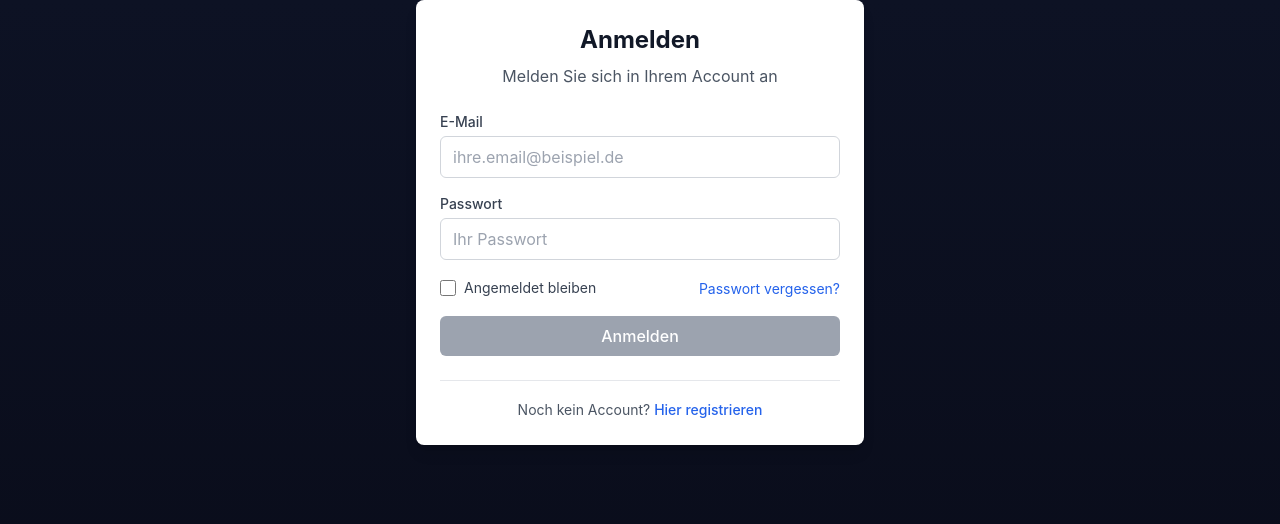
Test: LoginForm › handles login error
Type "test@example.com" into the field labelled "E-Mail" at (640, 157), box [440,136,840,178]
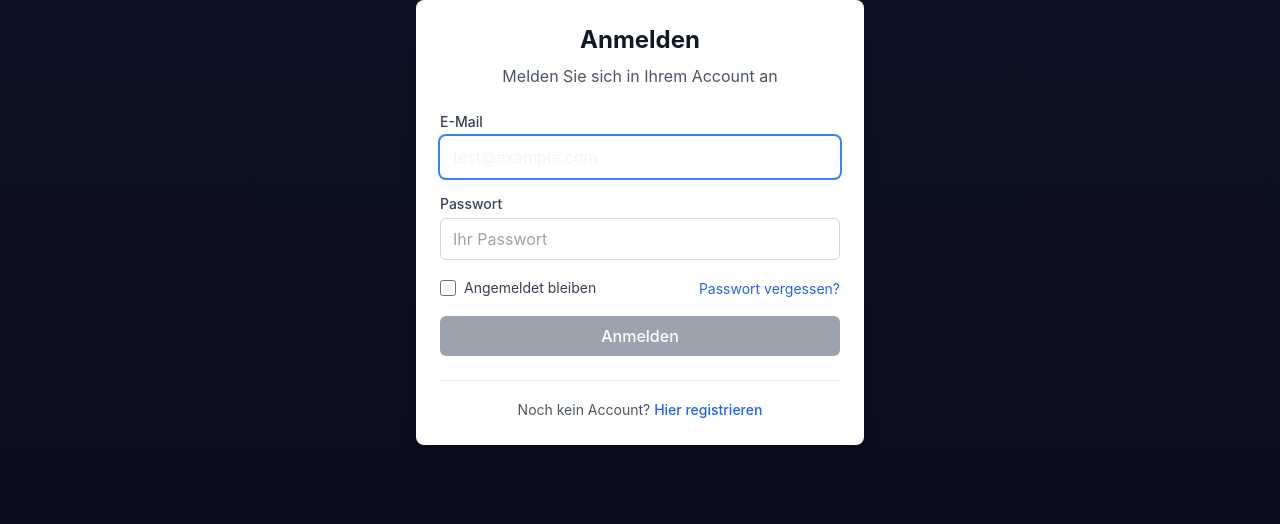
Type "wrongpassword" into the password field labelled "Passwort" at (640, 239), box [440,218,840,260]
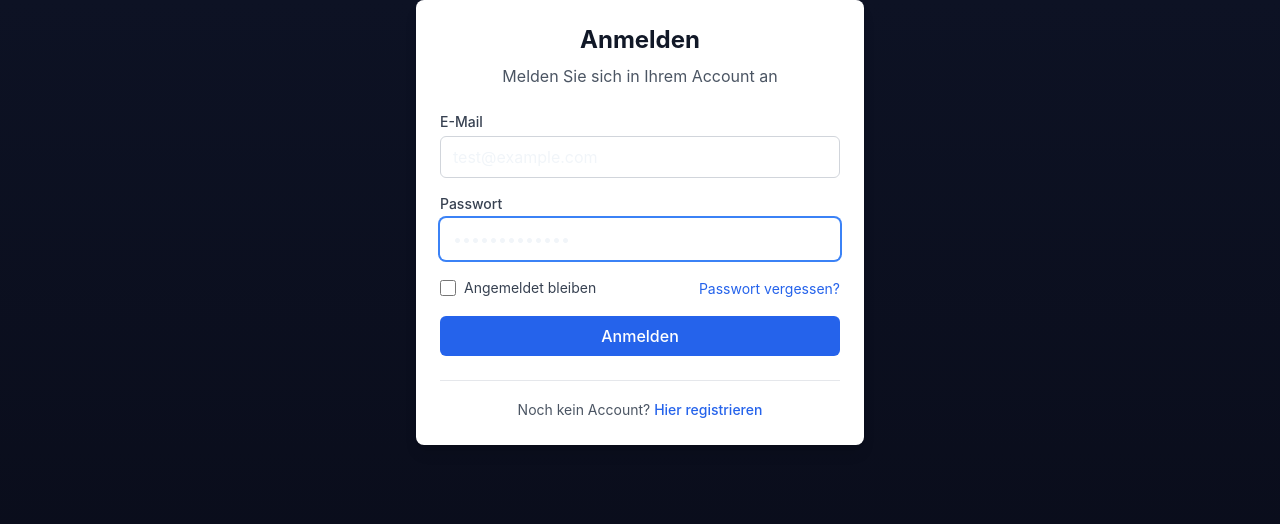
Click the button "Anmelden" at (640, 336), box [440,316,840,356]
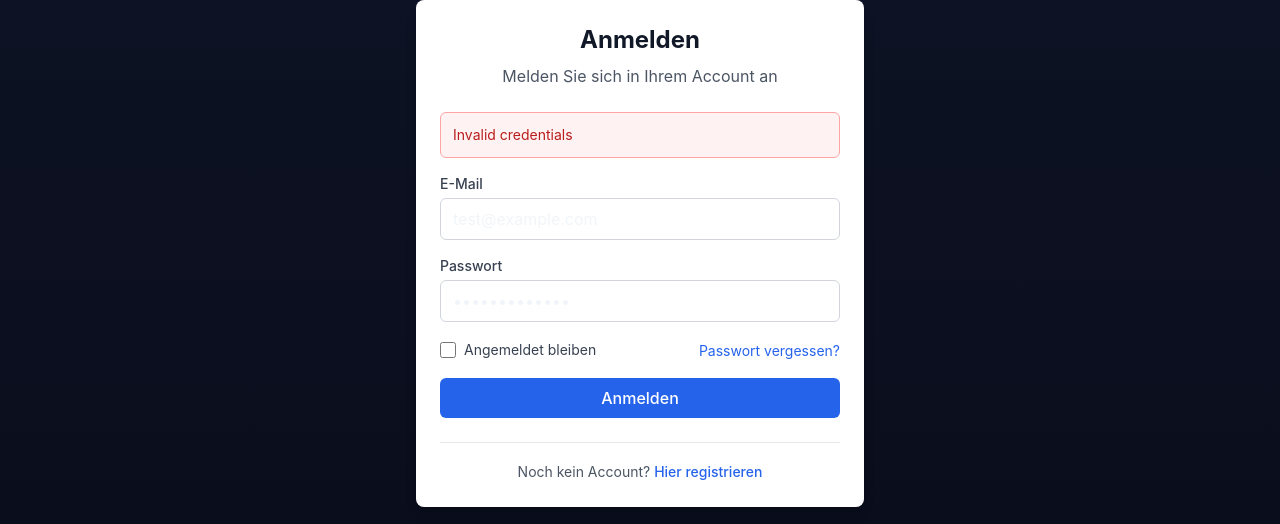
Expected: the text "Invalid credentials" is shown, [453,126,573,143]
